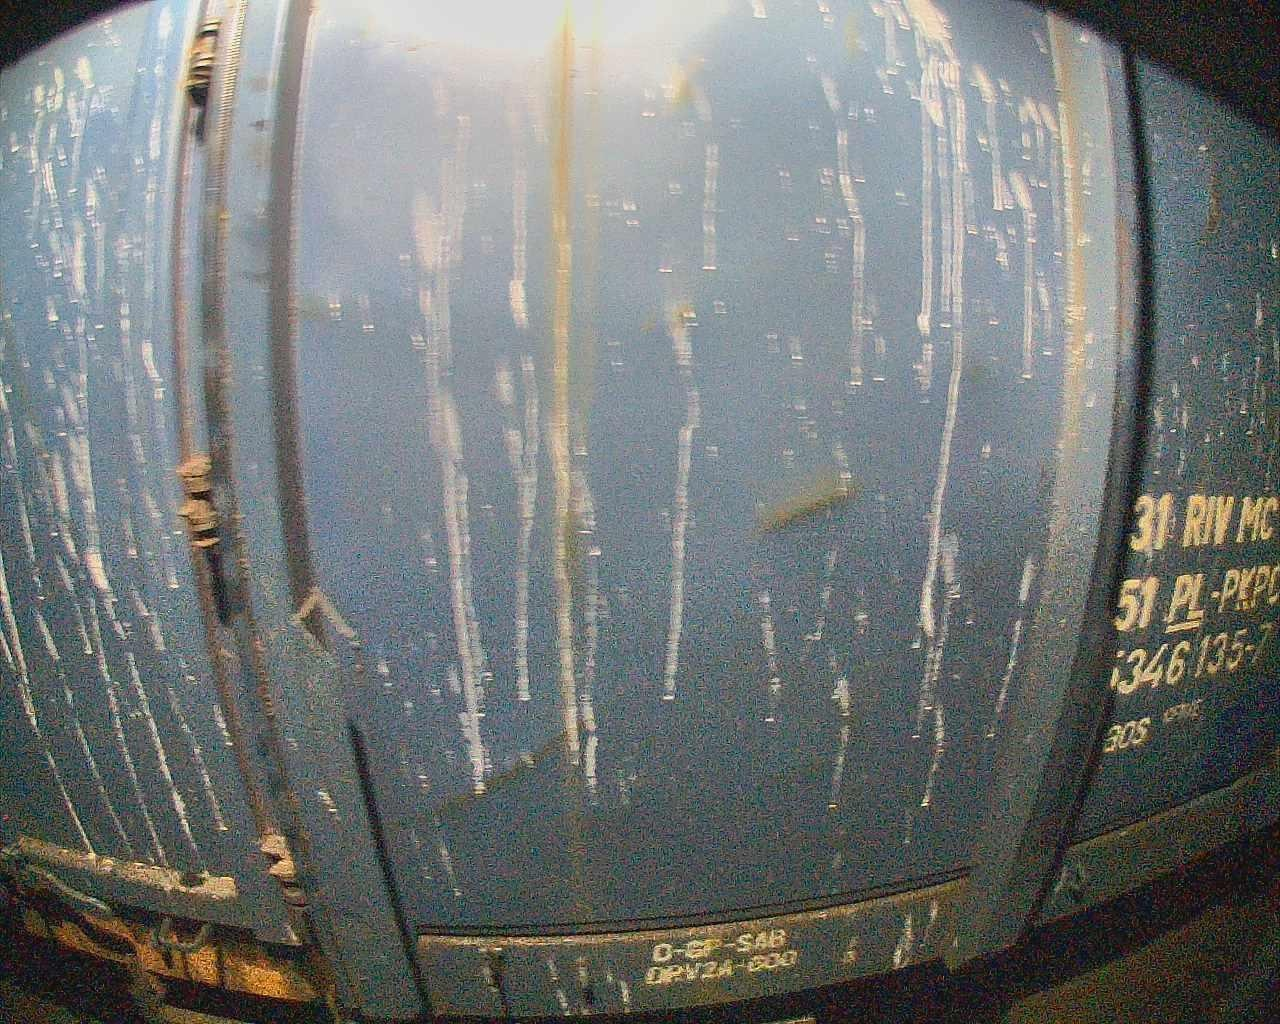UIC: (1101, 491, 1280, 757)
